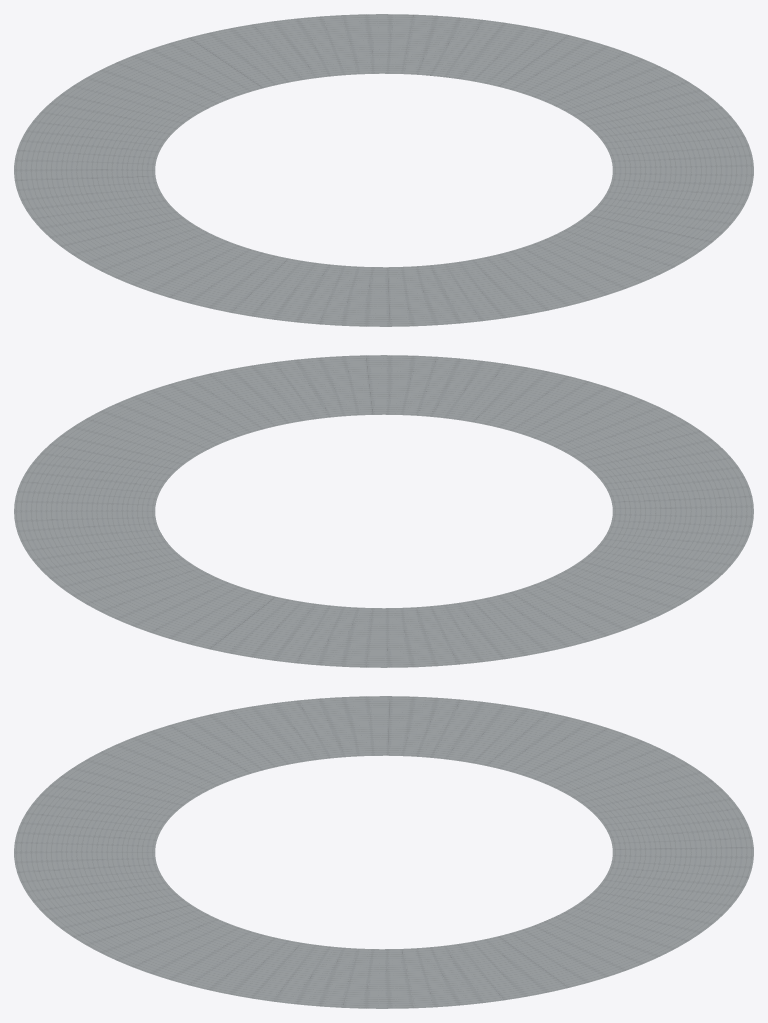
Rendered from field_spring_ground_metal.fbx.
3 views of the same model, one above another, from view 1: azimuth 30°, elevation 25°; view 2: azimuth 150°, elevation 25°; view 3: azimuth 270°, elevation 25° (orthographic).
Parts seen in each view (by area): view 1: field_spring_ground_metal; view 2: field_spring_ground_metal; view 3: field_spring_ground_metal.
Boxes of the visible parts, x1,y1,x2,y2 form: field_spring_ground_metal: [14, 14, 753, 326]; field_spring_ground_metal: [14, 355, 753, 667]; field_spring_ground_metal: [14, 696, 753, 1008].
Bounding box in the file's own units: 10909 × 0.6325 × 10909.
Materials: 1 (1 with a texture image).
